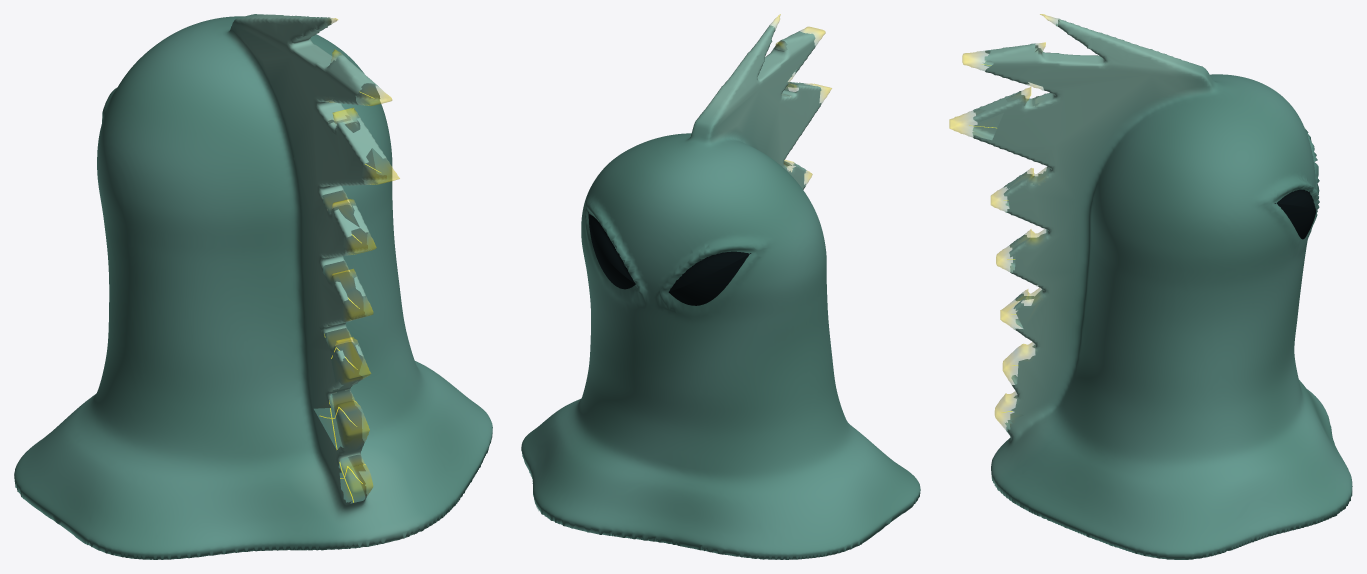
Rendered from specimen-lightning-only.glb.
The picture shows the model from 3 angles, left to right: view 1: azimuth 30°, elevation 25°; view 2: azimuth 150°, elevation 25°; view 3: azimuth 270°, elevation 25°; orthographic projection. The views are drawn at different scales.
Visible parts, largest first — view 1: Specimen-Body; view 2: Specimen-Body, Specimen-Eye-Left, Specimen-Eye-Right; view 3: Specimen-Body, Specimen-Eye-Right.
Part boxes in pixels (<box>): Specimen-Body: <box>14,14,492,559</box>; Specimen-Body: <box>521,14,920,559</box>; Specimen-Eye-Left: <box>668,251,751,305</box>; Specimen-Eye-Right: <box>588,212,635,289</box>; Specimen-Body: <box>949,14,1352,559</box>; Specimen-Eye-Right: <box>1274,189,1315,239</box>.
Size of the model in its own units: 1.88 by 2.12 by 1.72.
